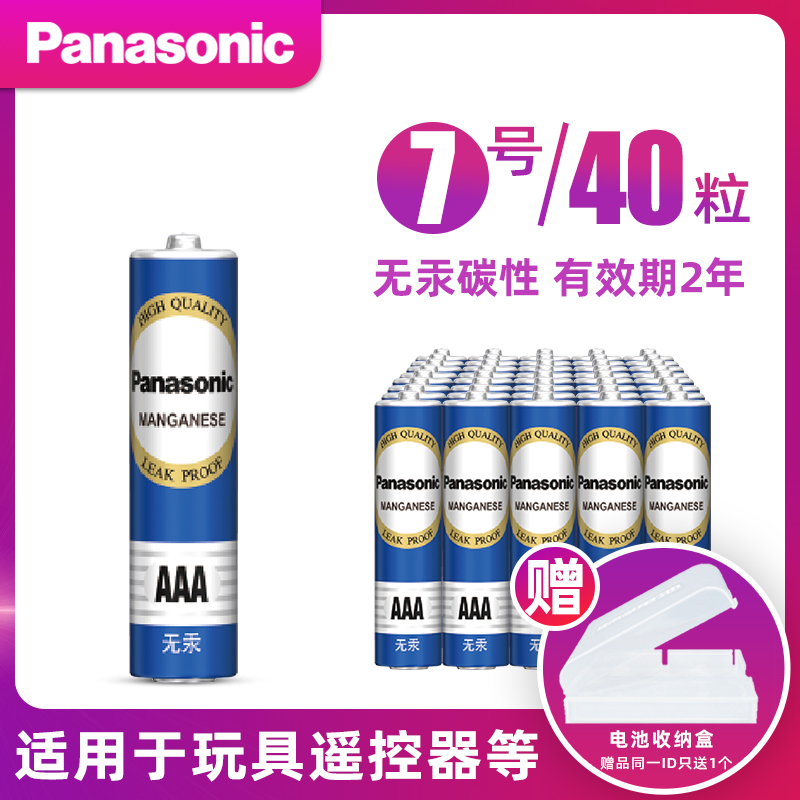Battery: (121, 229, 246, 689), (371, 387, 444, 675), (443, 392, 511, 673), (512, 389, 577, 673)
